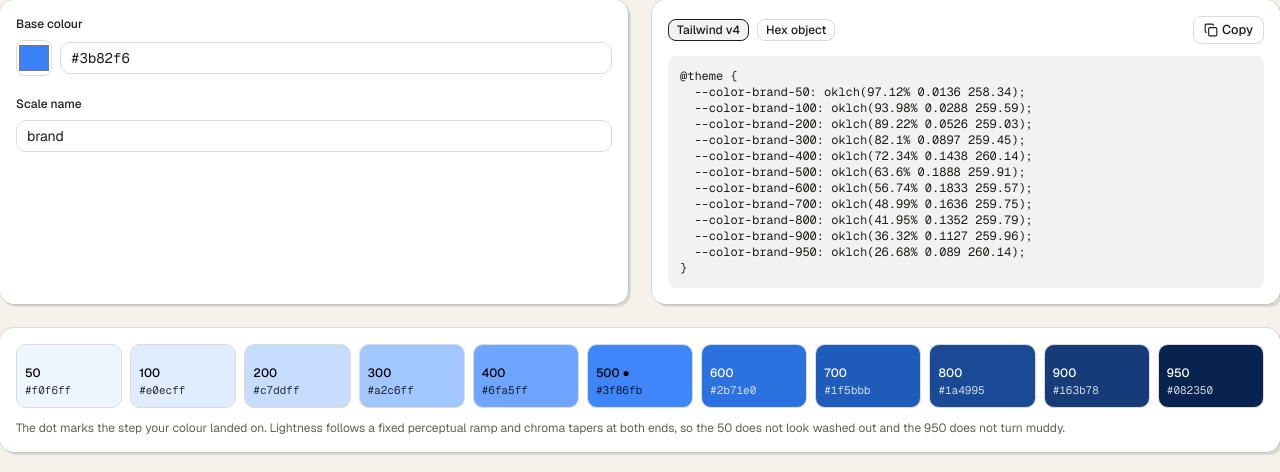
Test: TailwindShadesTool › uses the scale name in the output and makes it CSS-safe
The width and height of the screenshot is (1280, 472).
Step 1. Clear the field labelled "Scale name" → (314, 136), box [16, 120, 612, 152]
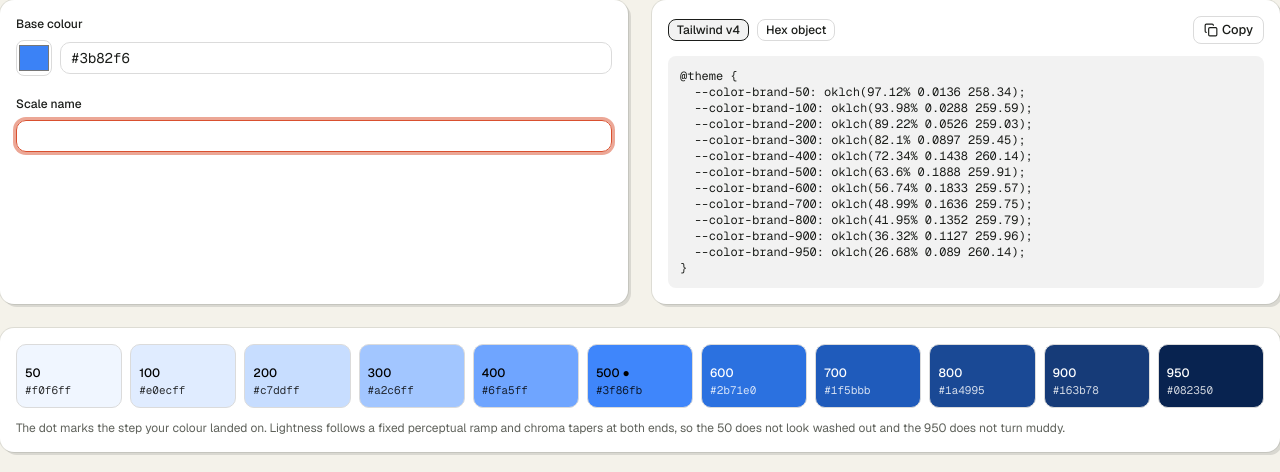
Step 2. Type keys "My Brand!"
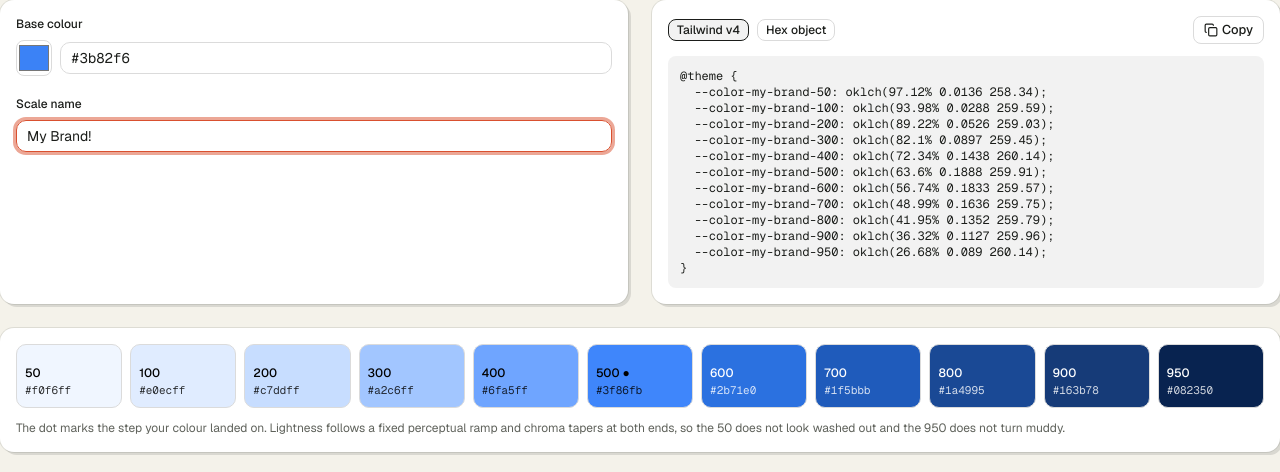
Expected: the text "@theme" shows "--color-my-brand-50:", [680, 68, 1054, 276]
